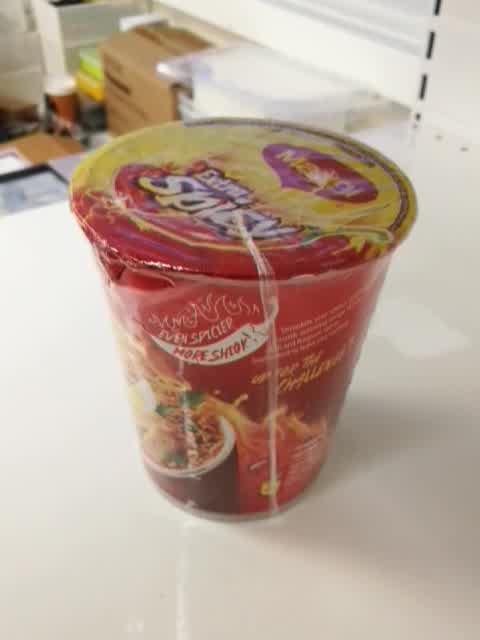maggi: (66, 116, 419, 524)
